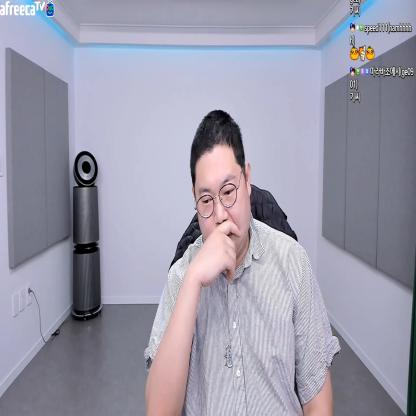streamer: (142, 110, 342, 416)
